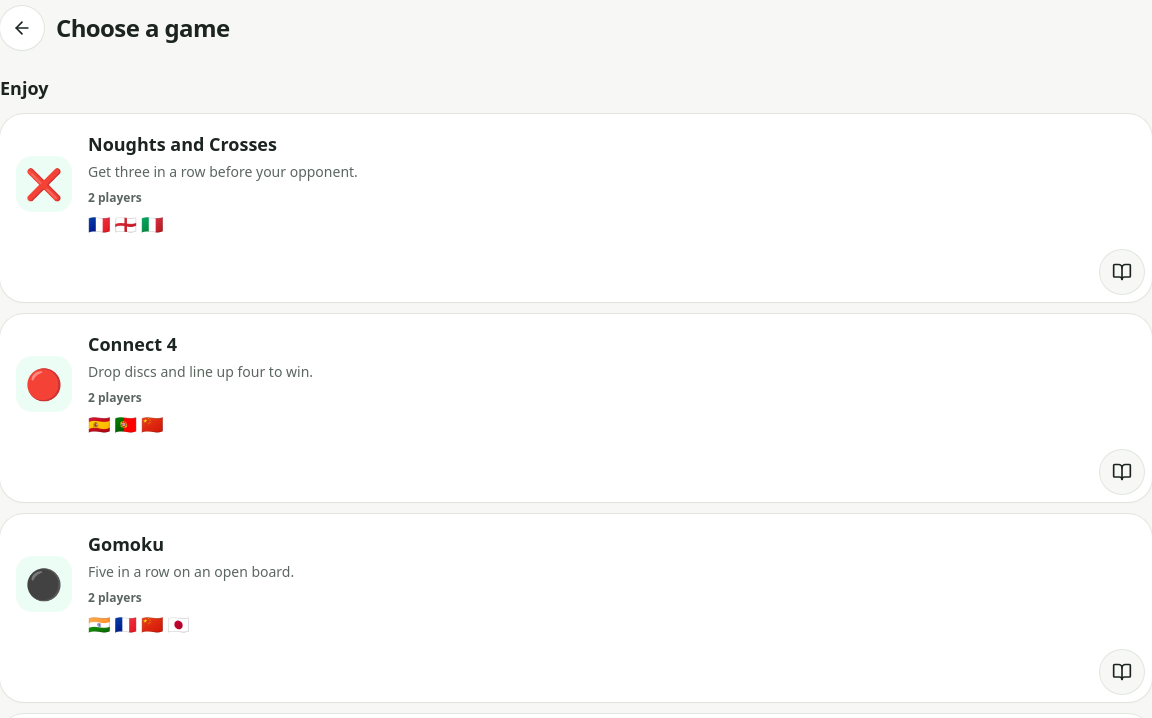
How to play rules › opens the selected game rules from its book button without starting the game
The width and height of the screenshot is (1152, 718).
Click the button named "How to play Connect 4": (1122,472) top-left (1100, 450), bottom-right (1144, 494)
(page scrolled)
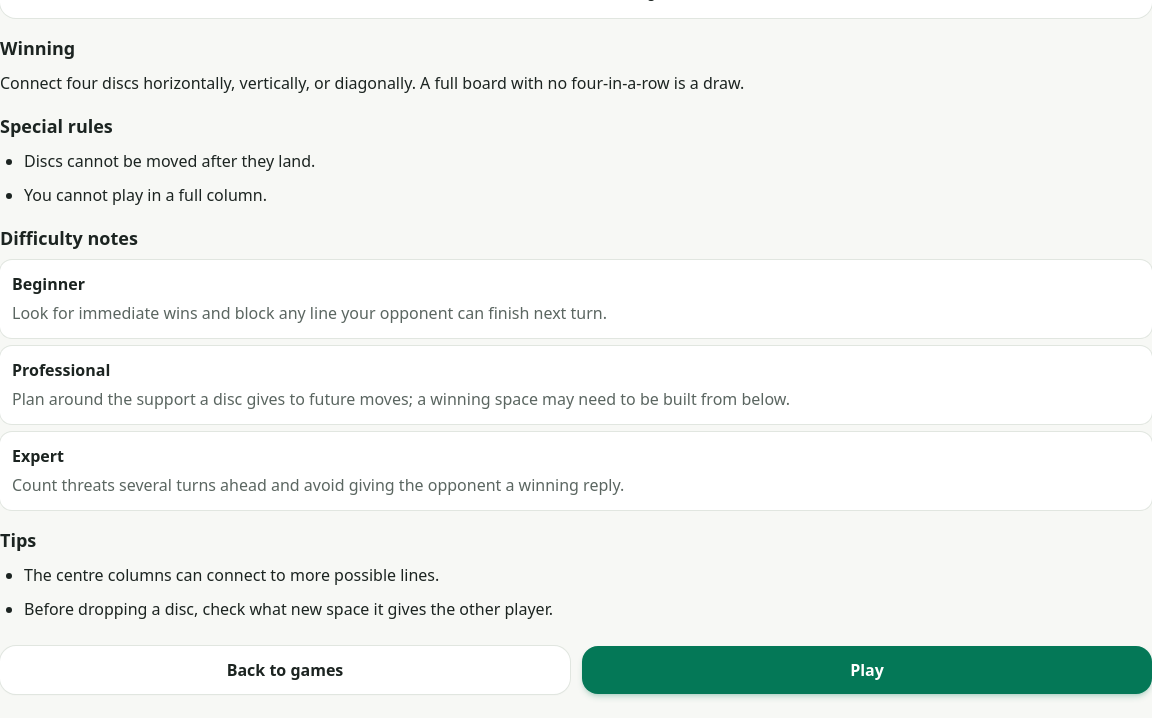
Expected: the link "Back to games" is shown, top-left (0, 646), bottom-right (570, 694)
